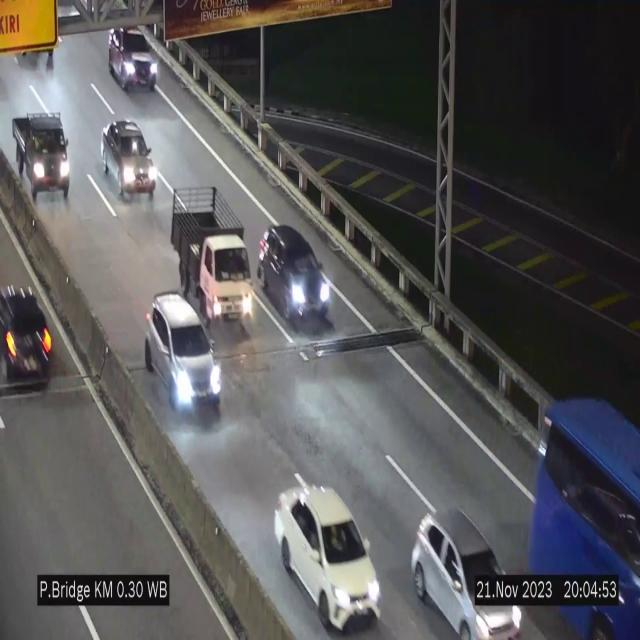Bus: (512, 385, 640, 640)
Car: (276, 485, 380, 633), (411, 513, 523, 639), (0, 248, 66, 390), (146, 294, 222, 414), (258, 225, 334, 323), (101, 121, 161, 198), (108, 27, 158, 90)
Truck: (170, 182, 250, 324), (9, 107, 76, 208)
